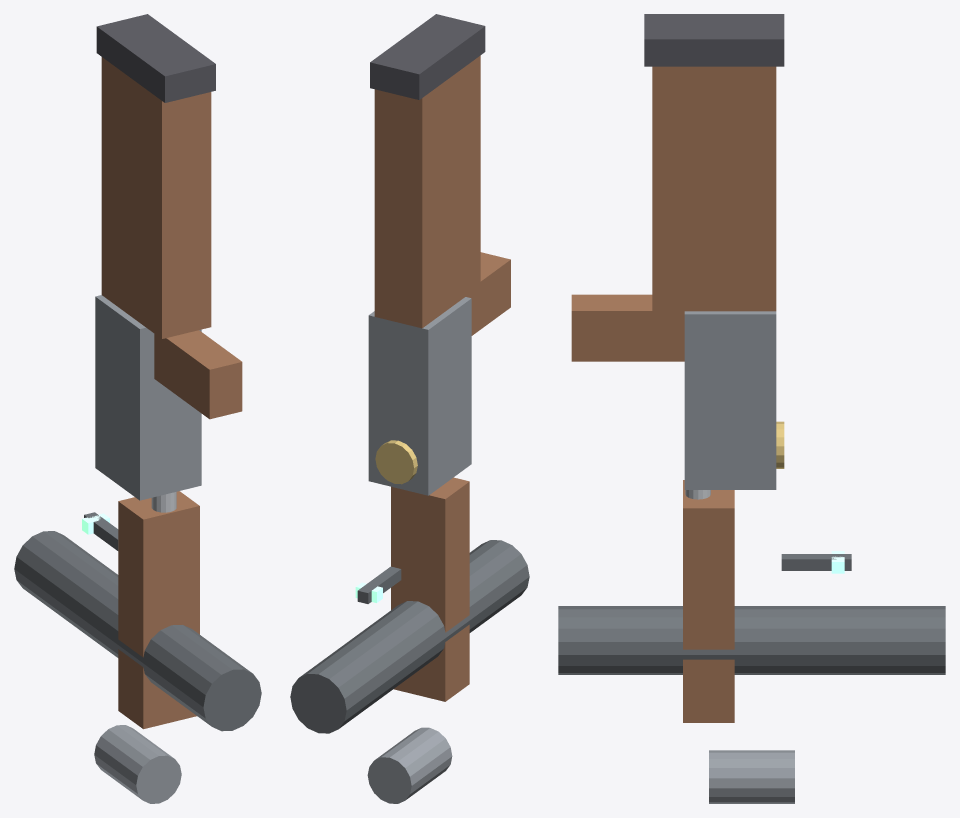
Rendered from grenade_launcher.glb.
The picture shows the model from 3 angles, left to right: view 1: azimuth 30°, elevation 25°; view 2: azimuth 150°, elevation 25°; view 3: azimuth 270°, elevation 25°; orthographic projection. The views are drawn at different scales.
Parts seen in each view (by area): view 1: Weapon_GrenadeLauncher; view 2: Weapon_GrenadeLauncher; view 3: Weapon_GrenadeLauncher.
Part boxes in pixels (x1=…): Weapon_GrenadeLauncher: x1=14, y1=14, x2=261, y2=803; Weapon_GrenadeLauncher: x1=290, y1=14, x2=529, y2=803; Weapon_GrenadeLauncher: x1=558, y1=14, x2=945, y2=803.
Size of the model in its own units: 0.068 by 0.794 by 0.36.
